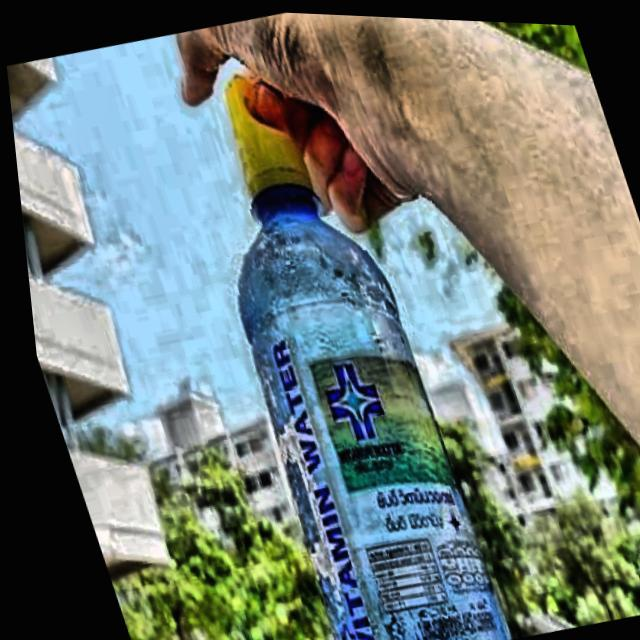Bottles: (141, 38, 522, 640)
